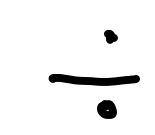div: (47, 29, 141, 120)
